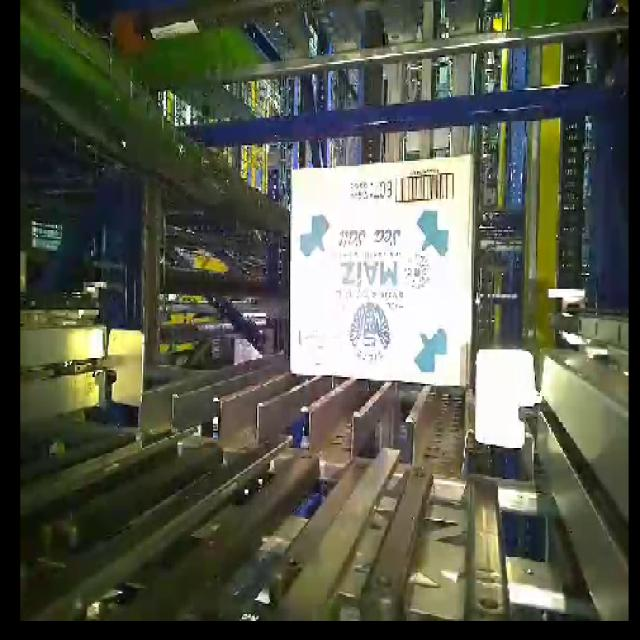box: (288, 153, 476, 389)
